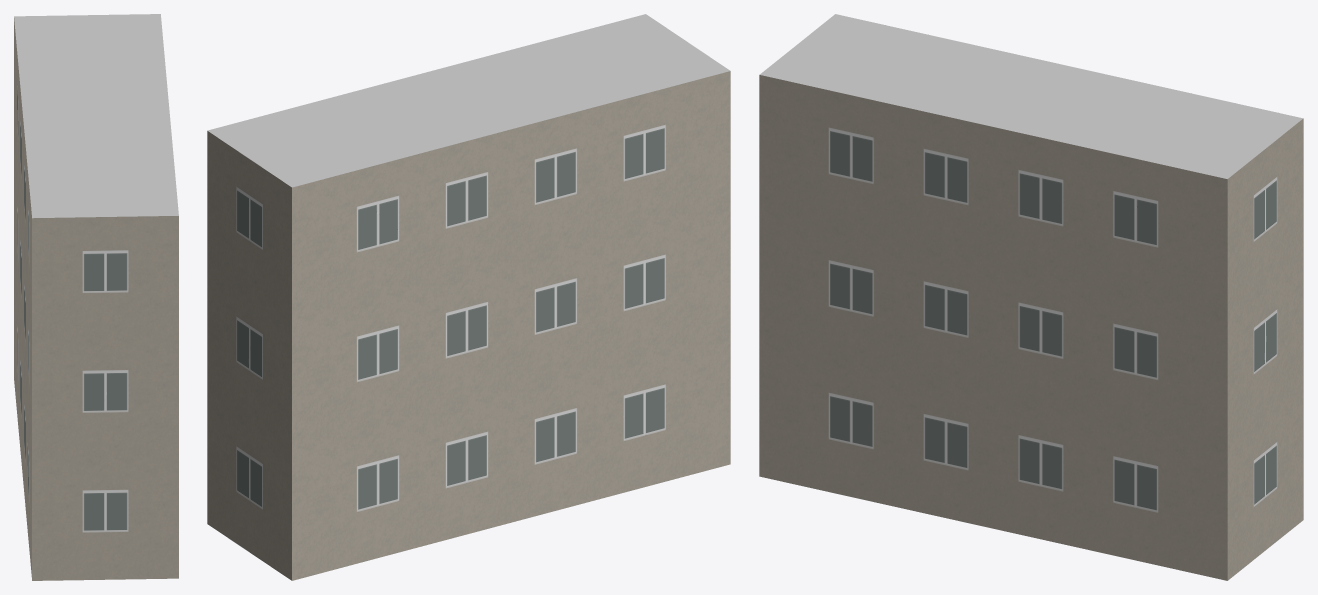
File: building-0-0-455.dae
3 renders of one model, left to right at view 1: azimuth 30°, elevation 25°; view 2: azimuth 150°, elevation 25°; view 3: azimuth 270°, elevation 25°, orthographic. The views are drawn at different scales.
Visible parts, largest first — view 1: geopipeinodefruQ1RrS (×3); view 2: geopipeinodefruQ1RrS (×3); view 3: geopipeinodefruQ1RrS (×3).
Boxes of the visible parts, x1,y1,x2,y2 form: geopipeinodefruQ1RrS (×3): (14, 14, 178, 580); geopipeinodefruQ1RrS (×3): (207, 14, 730, 580); geopipeinodefruQ1RrS (×3): (759, 14, 1303, 580).
Size of the model in its own units: 11.11 by 15.46 by 12.6.
